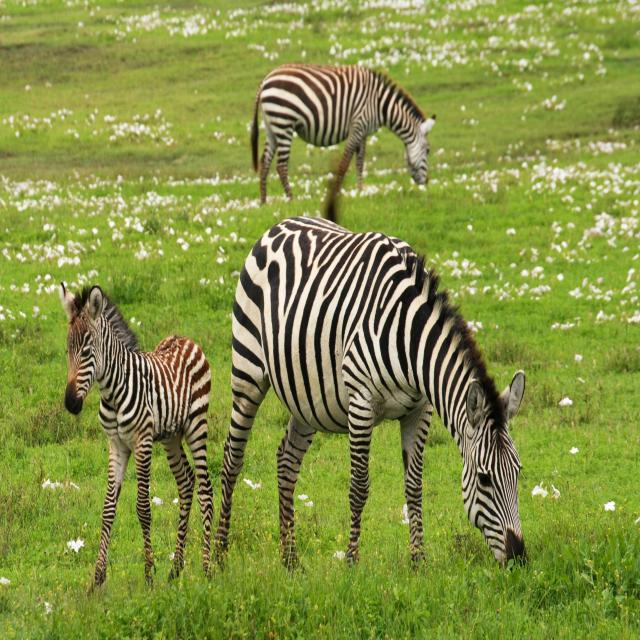Zebra: (217, 215, 526, 573), (62, 275, 215, 598), (252, 61, 436, 209)
